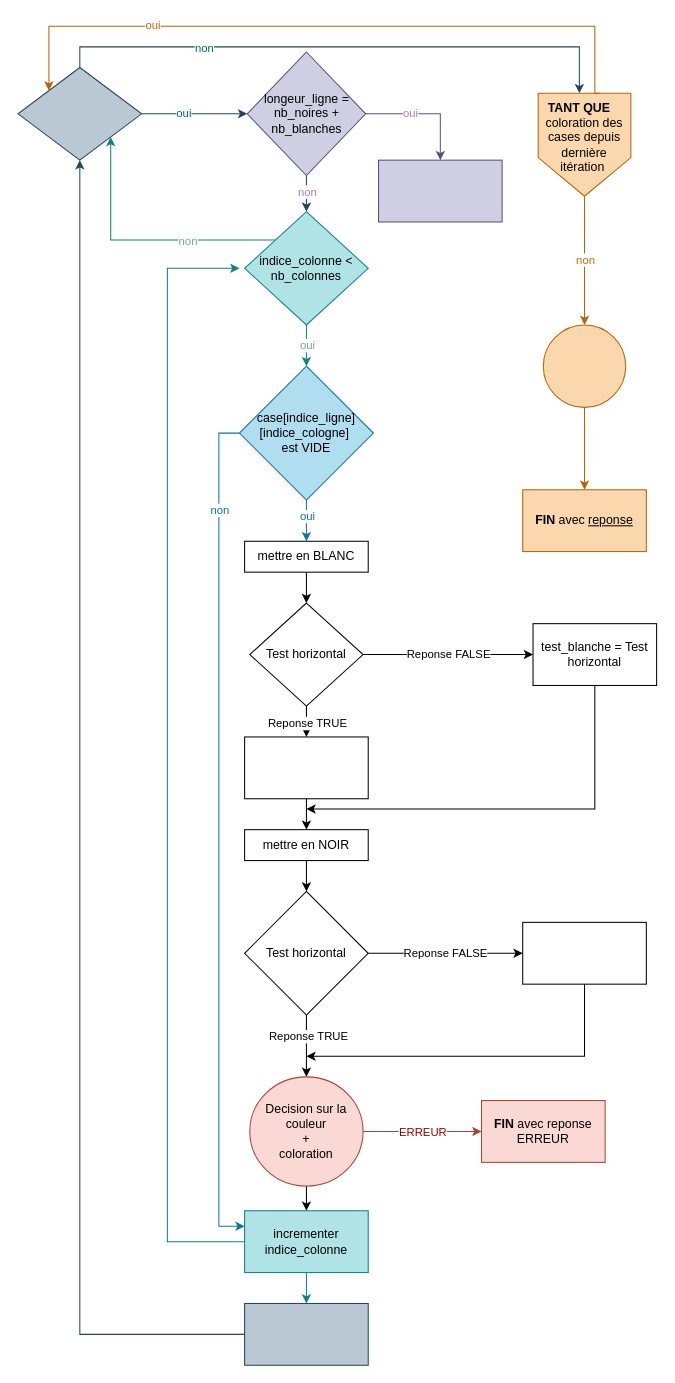
Some shapes in this 675 by 1383 pixel diagram are drawn without their labels. The centre of each missing label's shape, as x and y in pixels:
"coloration de la ligne directe" belongs at point 439,190.
"incrementer indice_ligne" belongs at point 306,1333.
"indice_ligne < nb_lignes" belongs at point 79,113.
"reponse = INCOMPLET ou RESOLU" belongs at point 584,365.
"test_blanche = Test vertical" belongs at point 306,767.
"test_noir = Test horizontal" belongs at point 584,952.
